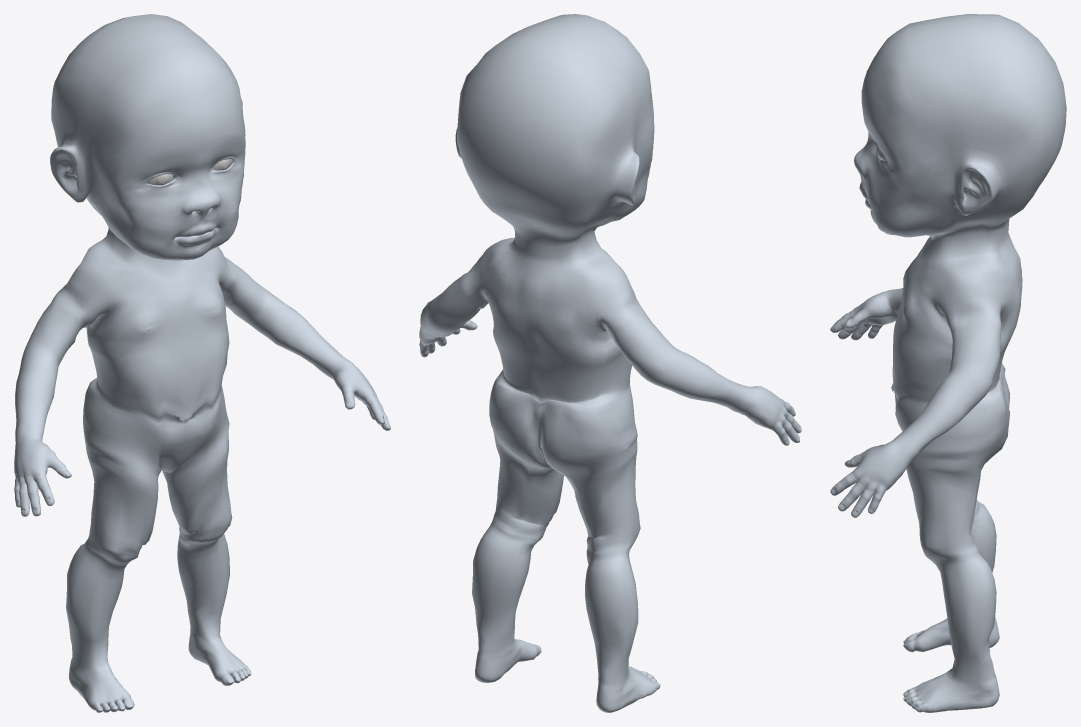
Rendered from human1.fbx.
The picture shows the model from 3 angles, left to right: view 1: azimuth 30°, elevation 25°; view 2: azimuth 150°, elevation 25°; view 3: azimuth 270°, elevation 25°; orthographic projection.
Visible parts, largest first — view 1: humanMesh; view 2: humanMesh; view 3: humanMesh.
Part boxes in pixels (x1,y1,x2,y2): humanMesh: (14, 14, 390, 712); humanMesh: (419, 14, 801, 712); humanMesh: (830, 14, 1066, 712).
Size of the model in its own units: 843 by 1431 by 468.
